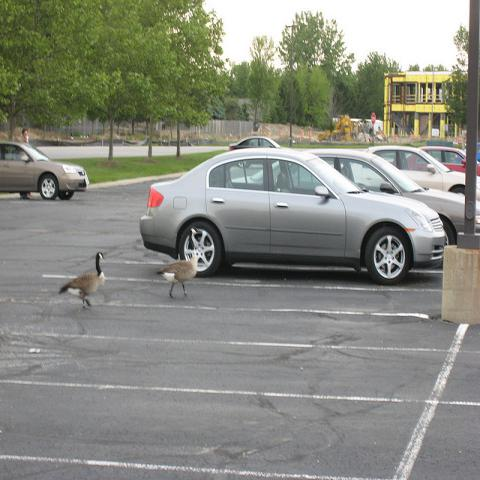car: (136, 148, 450, 285), (311, 148, 479, 246), (362, 145, 480, 202), (0, 140, 89, 204), (417, 145, 479, 177), (230, 136, 282, 152)
